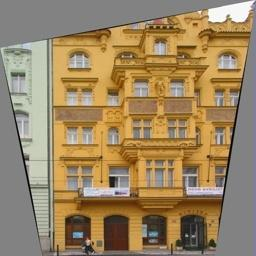building: (52, 0, 256, 251)
